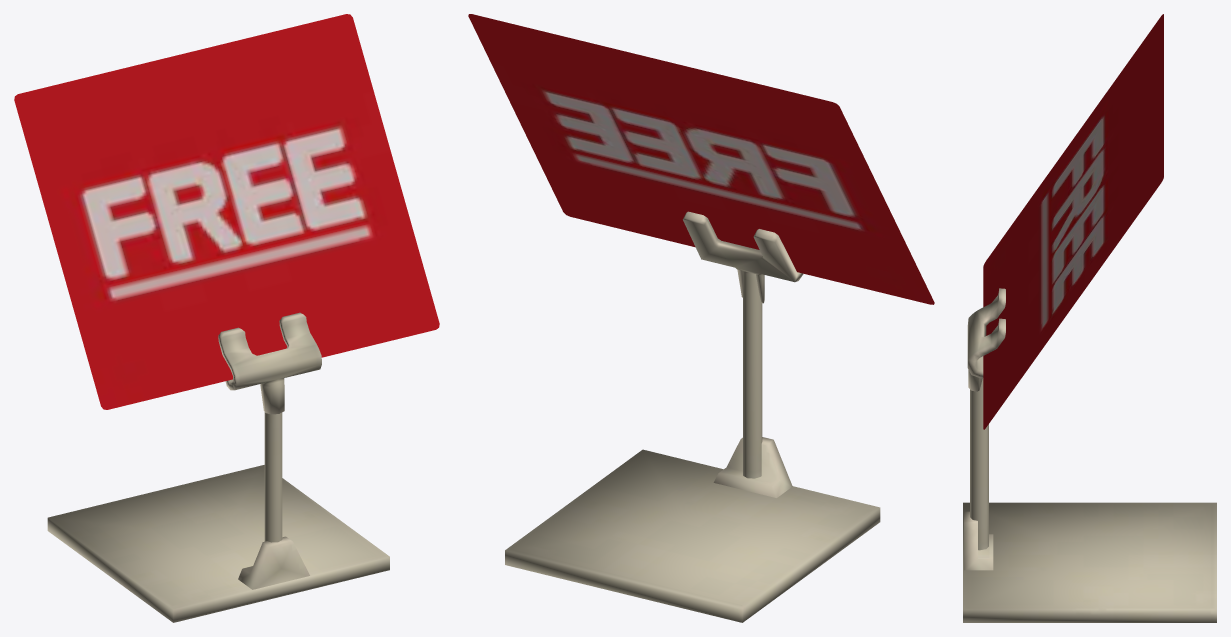
The picture shows the model from 3 angles, left to right: view 1: azimuth 30°, elevation 25°; view 2: azimuth 150°, elevation 25°; view 3: azimuth 270°, elevation 25°; orthographic projection. The views are drawn at different scales.
Bounding box in the file's own units: 5.08 × 6.73 × 3.27.
2 materials, 2 textured.
